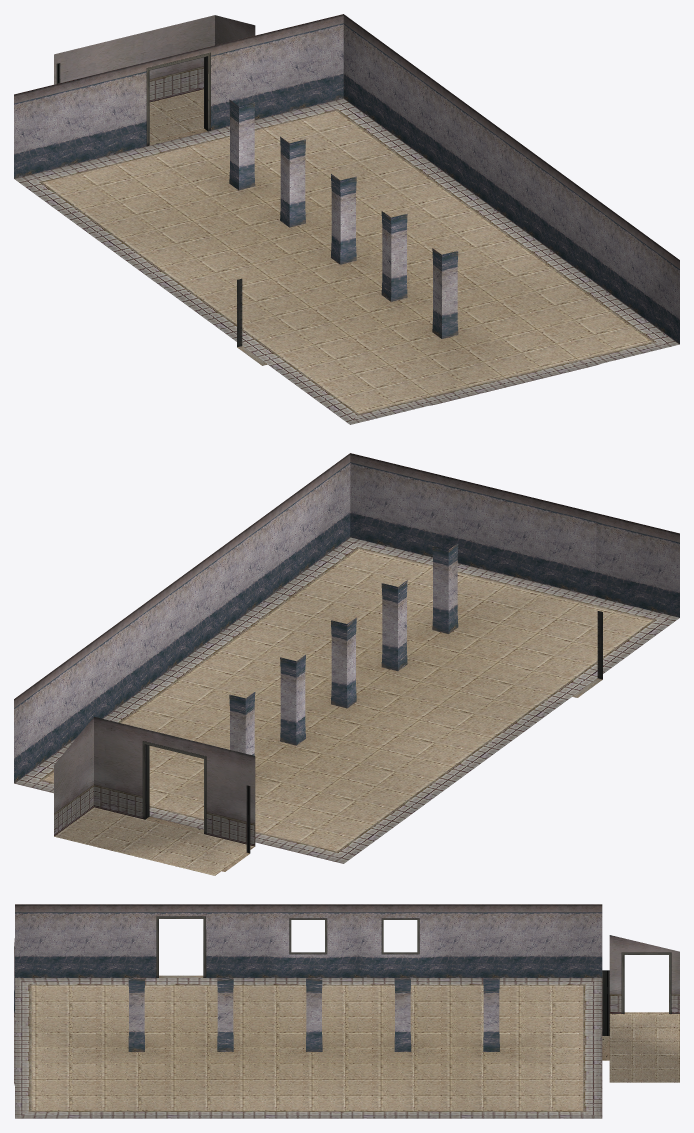
File: M11Z1_Barracks_Int.glb
The picture shows the model from 3 angles, top to bottom: view 1: azimuth 30°, elevation 25°; view 2: azimuth 150°, elevation 25°; view 3: azimuth 270°, elevation 25°; orthographic projection. The views are drawn at different scales.
Visible parts, largest first — view 1: M11Z1_BARRACKS_INT; view 2: M11Z1_BARRACKS_INT; view 3: M11Z1_BARRACKS_INT.
Part boxes in pixels (x1=…): M11Z1_BARRACKS_INT: x1=14, y1=14, x2=679, y2=424; M11Z1_BARRACKS_INT: x1=14, y1=453, x2=679, y2=875; M11Z1_BARRACKS_INT: x1=14, y1=904, x2=679, y2=1118.
Bounding box in the file's own units: 11.44 × 2.95 × 22.53.
Materials: 8 (8 with a texture image).
